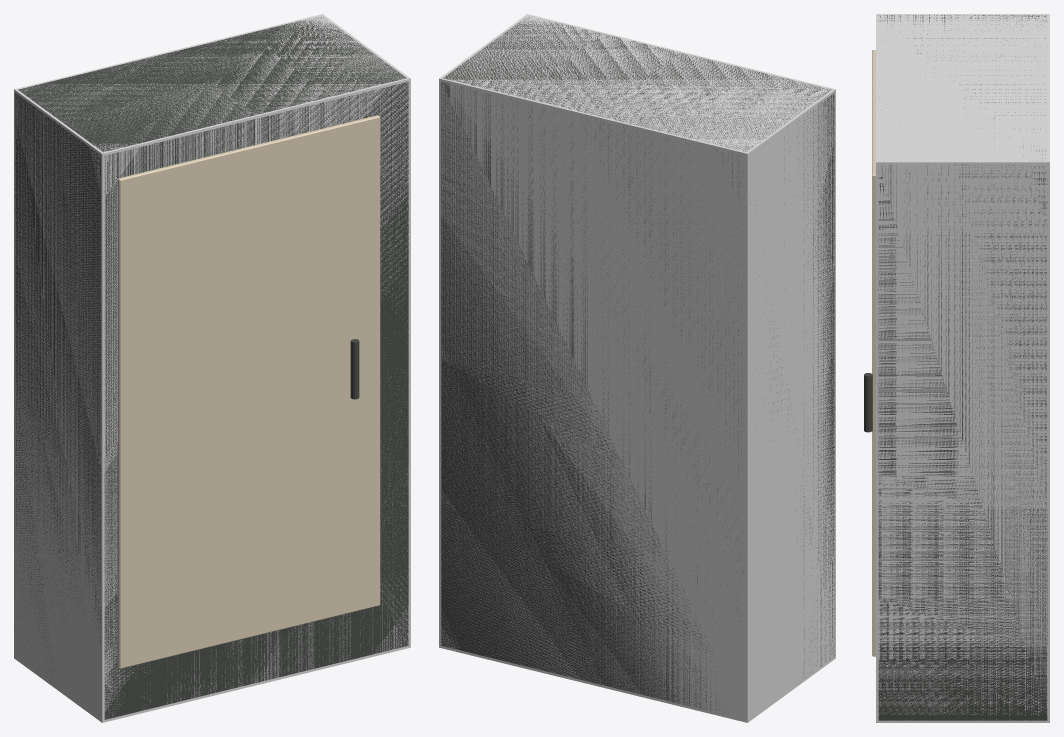
The model's file is filing-cabinet_basic.glb.
3 renders of one model, left to right at view 1: azimuth 30°, elevation 25°; view 2: azimuth 150°, elevation 25°; view 3: azimuth 270°, elevation 25°, orthographic.
Visible parts, largest first — view 1: MESH_Door_01, MESH_CabinetCarcass, COL_filing-cabinet; view 2: COL_filing-cabinet, MESH_CabinetCarcass; view 3: COL_filing-cabinet, MESH_CabinetCarcass, MESH_Door_01, MESH_Handle.
Boxes of the visible parts, x1,y1,x2,y2 form: MESH_Door_01: (117, 115, 380, 668); MESH_CabinetCarcass: (15, 17, 408, 719); COL_filing-cabinet: (14, 14, 410, 722); COL_filing-cabinet: (439, 14, 835, 722); MESH_CabinetCarcass: (441, 17, 834, 712); COL_filing-cabinet: (876, 14, 1049, 722); MESH_CabinetCarcass: (878, 15, 1047, 720); MESH_Door_01: (872, 50, 875, 656); MESH_Handle: (864, 373, 872, 432).
Size of the model in its own units: 1.05 by 1.85 by 0.556.
